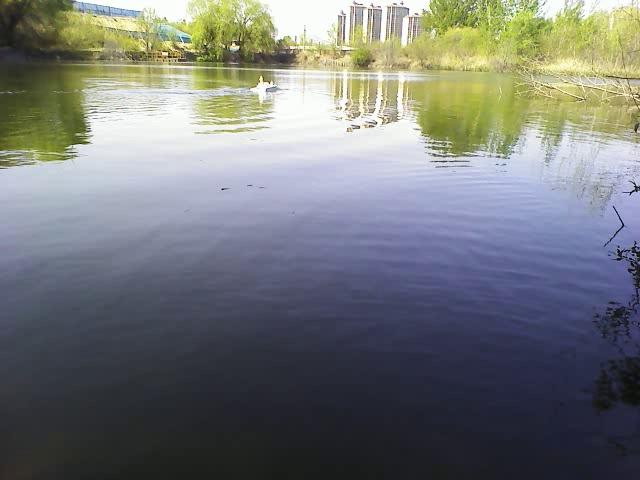boat: (251, 80, 283, 95)
